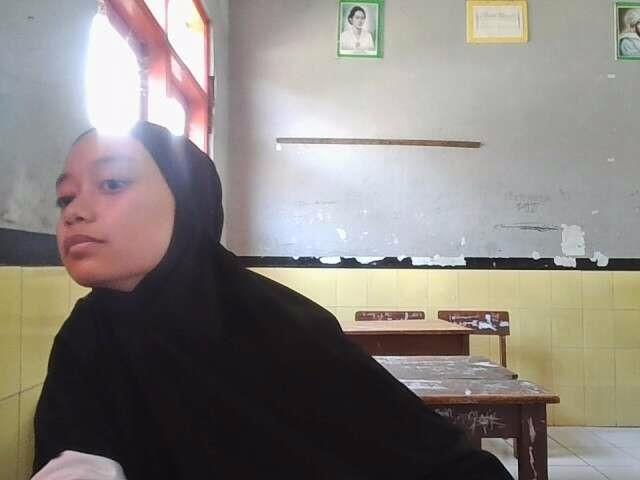cheating: (11, 101, 551, 480)
